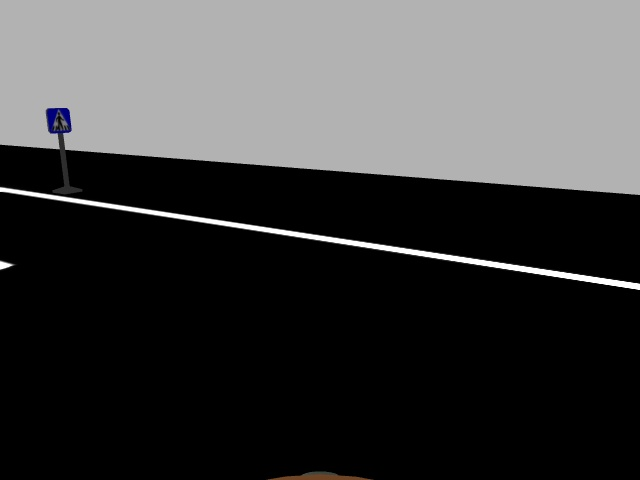crosswalk: (44, 106, 74, 135)
